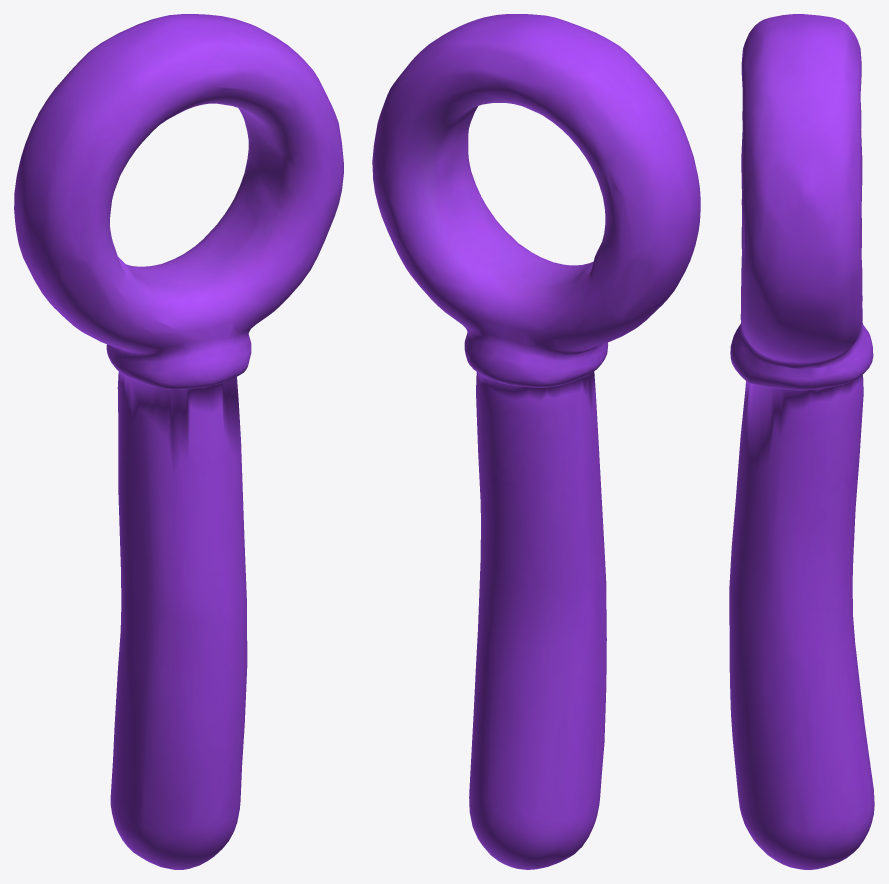
File: bubble_wand.glb
3 views of the same model, side by side, from view 1: azimuth 30°, elevation 25°; view 2: azimuth 150°, elevation 25°; view 3: azimuth 270°, elevation 25° (orthographic).
Visible parts, largest first — view 1: tripo_node_05afbafc-89e2-48c4-9079-0f86f8753283; view 2: tripo_node_05afbafc-89e2-48c4-9079-0f86f8753283; view 3: tripo_node_05afbafc-89e2-48c4-9079-0f86f8753283.
Boxes of the visible parts, x1,y1,x2,y2 form: tripo_node_05afbafc-89e2-48c4-9079-0f86f8753283: [14, 14, 343, 869]; tripo_node_05afbafc-89e2-48c4-9079-0f86f8753283: [372, 14, 700, 869]; tripo_node_05afbafc-89e2-48c4-9079-0f86f8753283: [729, 14, 874, 869].
Size of the model in its own units: 0.3722 by 0.9804 by 0.1545.
Materials: 1 (1 with a texture image).
